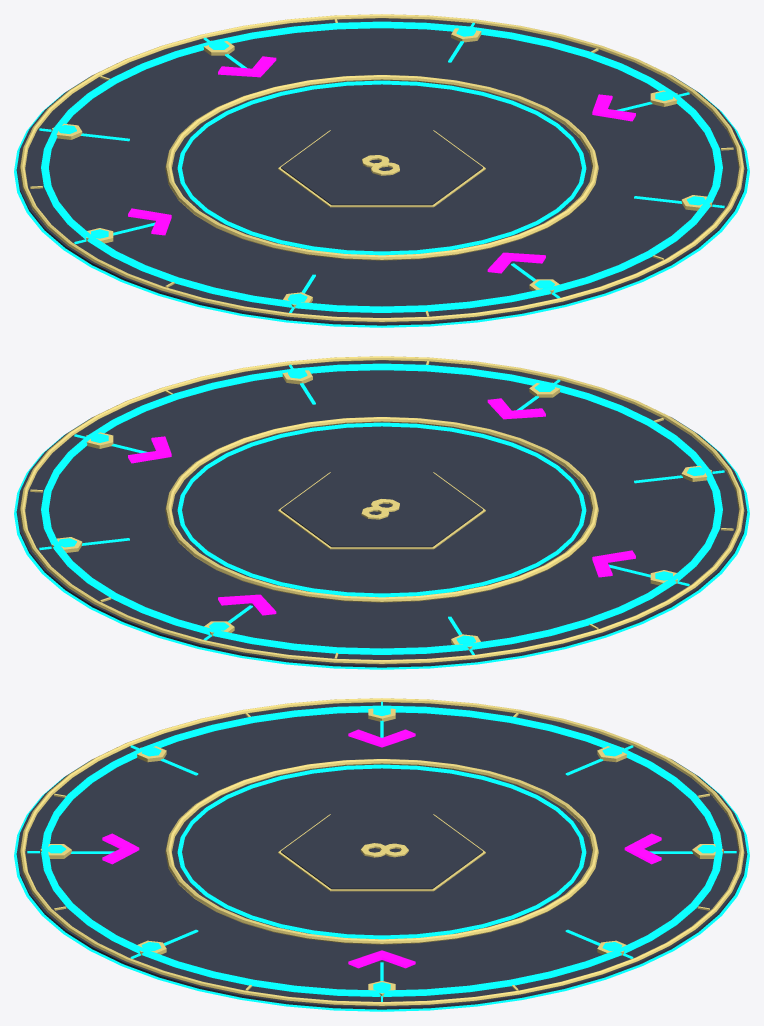
The model's file is chair_aura_ring.glb.
The picture shows the model from 3 angles, top to bottom: view 1: azimuth 30°, elevation 25°; view 2: azimuth 150°, elevation 25°; view 3: azimuth 270°, elevation 25°; orthographic projection.
Visible parts, largest first — view 1: Aura_Floor_Platter, Aura_Main_Neon_Loop, Aura_Center_Hex, Aura_Gold_Outer_Rim, Aura_Mid_Gold_Ring, Aura_Inner_Neon, Aura_Perimeter_Glow, Cylinder.016, Aura_Chevron_3, Aura_Chevron_1, Aura_Chevron_2, Aura_Chevron_0; view 2: Aura_Floor_Platter, Aura_Main_Neon_Loop, Aura_Center_Hex, Aura_Gold_Outer_Rim, Aura_Mid_Gold_Ring, Aura_Inner_Neon, Aura_Perimeter_Glow, Cylinder.016, Aura_Chevron_1, Aura_Chevron_3, Aura_Chevron_2, Aura_Chevron_0; view 3: Aura_Floor_Platter, Aura_Main_Neon_Loop, Aura_Center_Hex, Aura_Gold_Outer_Rim, Aura_Mid_Gold_Ring, Aura_Inner_Neon, Aura_Perimeter_Glow, Cylinder.016, Aura_Chevron_0, Aura_Chevron_2, Aura_Chevron_1, Aura_Chevron_3 (+1 smaller).
Boxes of the visible parts, <box> form: Aura_Floor_Platter: <box>16,18,747,325</box>; Aura_Main_Neon_Loop: <box>41,21,722,312</box>; Aura_Center_Hex: <box>281,130,482,205</box>; Aura_Gold_Outer_Rim: <box>19,14,744,322</box>; Aura_Mid_Gold_Ring: <box>165,75,598,260</box>; Aura_Inner_Neon: <box>177,80,586,255</box>; Aura_Perimeter_Glow: <box>14,89,749,327</box>; Cylinder.016: <box>278,130,485,207</box>; Aura_Chevron_3: <box>487,252,545,273</box>; Aura_Chevron_1: <box>218,56,276,77</box>; Aura_Chevron_2: <box>128,208,171,235</box>; Aura_Chevron_0: <box>592,94,635,121</box>; Aura_Floor_Platter: <box>16,360,747,667</box>; Aura_Main_Neon_Loop: <box>41,363,722,654</box>; Aura_Center_Hex: <box>281,472,482,547</box>; Aura_Gold_Outer_Rim: <box>19,356,744,664</box>; Aura_Mid_Gold_Ring: <box>165,417,598,602</box>; Aura_Inner_Neon: <box>177,422,586,597</box>; Aura_Perimeter_Glow: <box>14,431,749,669</box>; Cylinder.016: <box>278,472,485,549</box>; Aura_Chevron_1: <box>218,594,276,615</box>; Aura_Chevron_3: <box>487,398,545,419</box>; Aura_Chevron_2: <box>592,550,635,577</box>; Aura_Chevron_0: <box>128,436,171,463</box>; Aura_Floor_Platter: <box>16,702,747,1009</box>; Aura_Main_Neon_Loop: <box>41,705,722,996</box>; Aura_Center_Hex: <box>281,814,482,889</box>; Aura_Gold_Outer_Rim: <box>19,698,744,1006</box>; Aura_Mid_Gold_Ring: <box>165,759,598,944</box>; Aura_Inner_Neon: <box>177,764,586,939</box>; Aura_Perimeter_Glow: <box>14,773,749,1011</box>; Cylinder.016: <box>278,814,485,891</box>; Aura_Chevron_0: <box>348,950,415,968</box>; Aura_Chevron_2: <box>348,729,415,747</box>; Aura_Chevron_1: <box>624,833,661,864</box>; Aura_Chevron_3: <box>102,833,139,864</box>.
Bounding box in the file's own units: 1.31 × 0.017 × 1.31.
